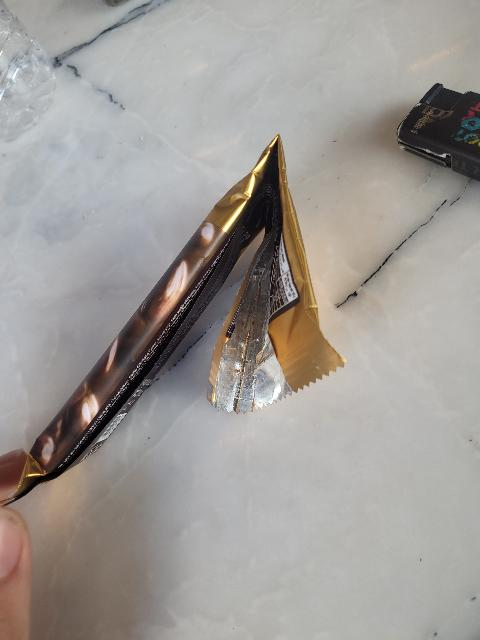Metal: (396, 71, 480, 182)
Plastik: (0, 133, 363, 509)
